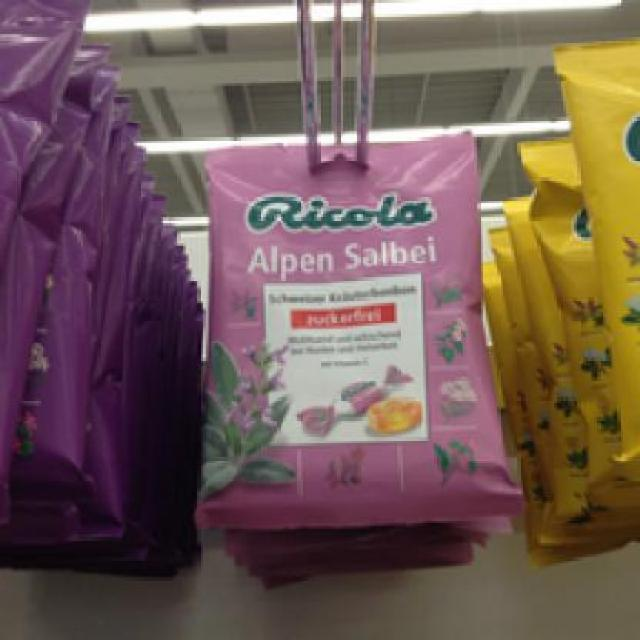Candy: (183, 130, 512, 526)
